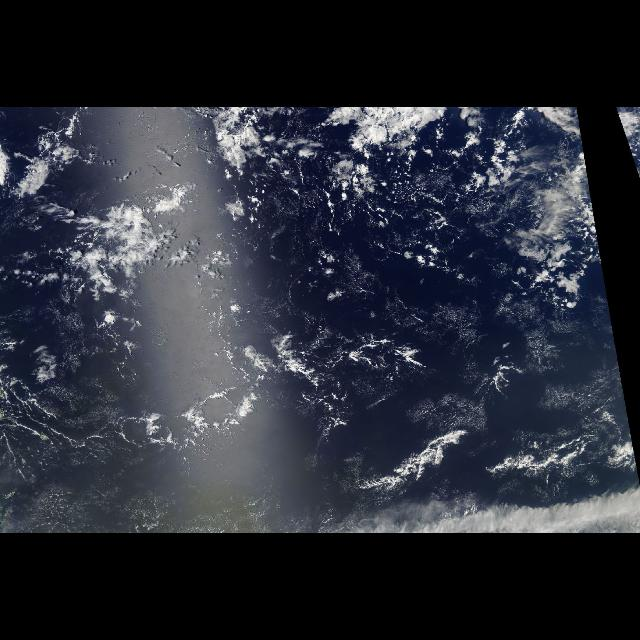Fish: (329, 393, 505, 511)
Sugar: (30, 349, 262, 533)
